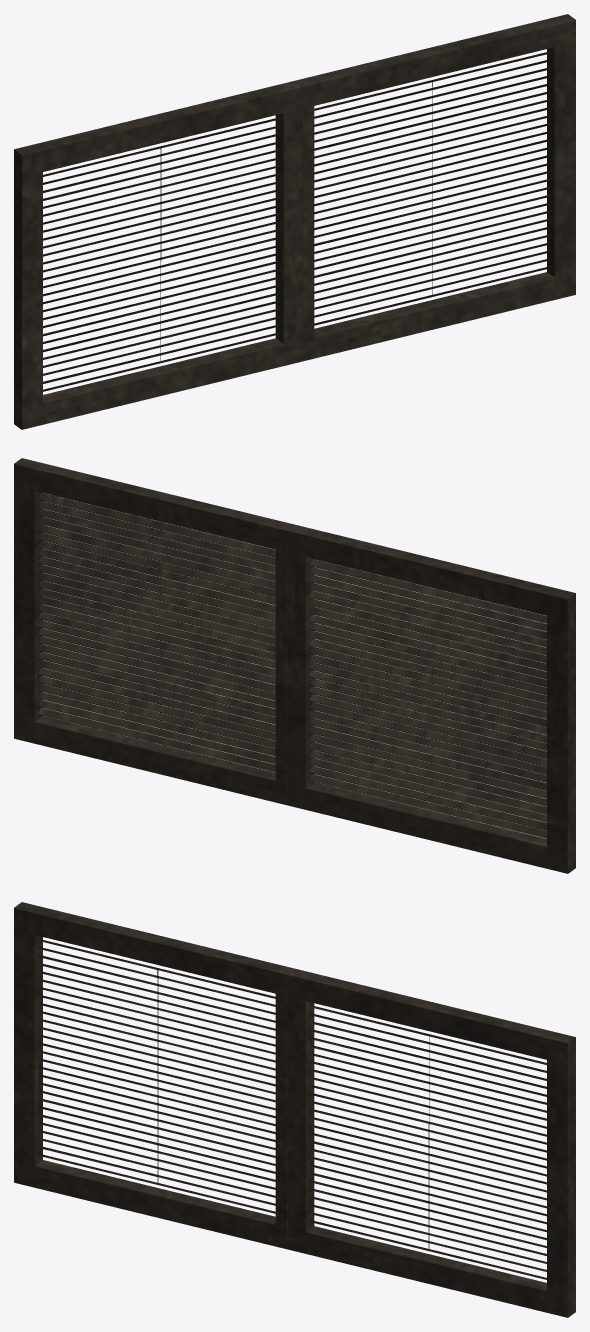
The model's file is WindowFactory73448.spawn_asset11.glb.
3 renders of one model, top to bottom at view 1: azimuth 30°, elevation 25°; view 2: azimuth 150°, elevation 25°; view 3: azimuth 330°, elevation 25°, orthographic.
Visible parts, largest first — view 1: WindowFactory(73448).spawn_asset(11).001; view 2: WindowFactory(73448).spawn_asset(11).001; view 3: WindowFactory(73448).spawn_asset(11).001.
Boxes of the visible parts, x1,y1,x2,y2 form: WindowFactory(73448).spawn_asset(11).001: (14,14,575,429); WindowFactory(73448).spawn_asset(11).001: (14,458,575,873); WindowFactory(73448).spawn_asset(11).001: (14,902,575,1317).
Bounding box in the file's own units: 3.03 × 1.44 × 0.0783.
1 material, 1 textured.
